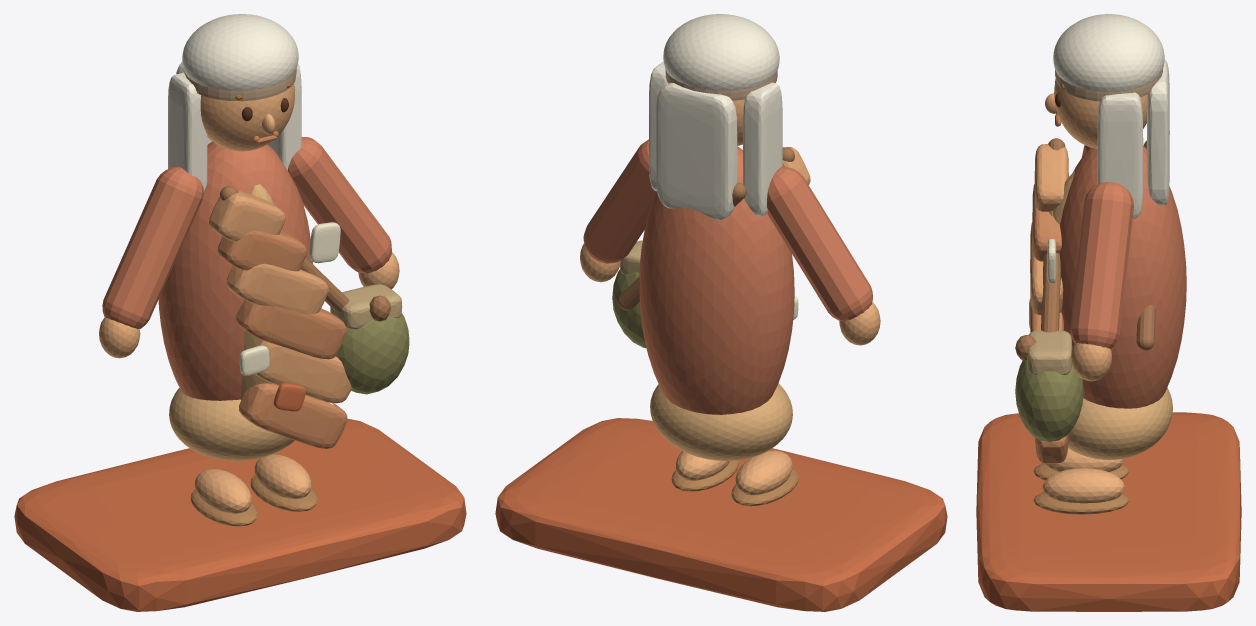
Rendered from traveler.glb.
3 views of the same model, side by side, from view 1: azimuth 30°, elevation 25°; view 2: azimuth 150°, elevation 25°; view 3: azimuth 270°, elevation 25° (orthographic).
Parts seen in each view (by area): view 1: Base, Body_Coat, Sleeve_R, Scarf_Top, Sleeve_L, Robe_Hem, Pouch, Sash_3, Sash_5, Head, Sash_2, Scarf_Side_R (+17 smaller); view 2: Base, Body_Coat, Scarf_Back, Sleeve_R, Scarf_Top, Robe_Hem, Sleeve_L, Scarf_Side_R, Foot_R, Pouch, Scarf_Side_L, Hand_R (+6 smaller); view 3: Base, Body_Coat, Sleeve_L, Scarf_Top, Robe_Hem, Scarf_Side_L, Pouch, Scarf_Back, Foot_L, Sash_0, Head, Pouch_Flap (+11 smaller).
Part boxes in pixels (bbox=[...]): Base: bbox=[14, 418, 466, 611]; Body_Coat: bbox=[158, 141, 312, 400]; Sleeve_R: bbox=[102, 166, 203, 328]; Scarf_Top: bbox=[182, 14, 298, 90]; Sleeve_L: bbox=[288, 137, 391, 273]; Robe_Hem: bbox=[169, 388, 294, 460]; Pouch: bbox=[336, 313, 409, 394]; Sash_3: bbox=[235, 300, 347, 359]; Sash_5: bbox=[239, 383, 347, 448]; Head: bbox=[200, 83, 294, 151]; Sash_2: bbox=[226, 263, 328, 314]; Scarf_Side_R: bbox=[168, 72, 207, 190]; Base: bbox=[495, 418, 947, 611]; Body_Coat: bbox=[639, 146, 794, 414]; Scarf_Back: bbox=[655, 82, 737, 220]; Sleeve_R: bbox=[767, 167, 872, 321]; Scarf_Top: bbox=[663, 14, 779, 90]; Robe_Hem: bbox=[650, 383, 792, 460]; Sleeve_L: bbox=[583, 139, 656, 263]; Scarf_Side_R: bbox=[743, 82, 782, 216]; Foot_R: bbox=[735, 450, 792, 495]; Pouch: bbox=[612, 269, 646, 348]; Scarf_Side_L: bbox=[649, 61, 668, 191]; Hand_R: bbox=[839, 302, 880, 345]; Base: bbox=[976, 412, 1241, 611]; Body_Coat: bbox=[1059, 146, 1186, 408]; Sleeve_L: bbox=[1070, 182, 1133, 348]; Scarf_Top: bbox=[1053, 14, 1164, 91]; Robe_Hem: bbox=[1068, 387, 1172, 459]; Scarf_Side_L: bbox=[1097, 92, 1143, 219]; Pouch: bbox=[1015, 360, 1083, 442]; Scarf_Back: bbox=[1147, 60, 1169, 205]; Foot_L: bbox=[1042, 468, 1124, 503]; Sash_0: bbox=[1034, 144, 1068, 211]; Head: bbox=[1054, 79, 1147, 148]; Pouch_Flap: bbox=[1027, 330, 1072, 374].
Size of the model in its own units: 0.9 by 1.23 by 0.58.
